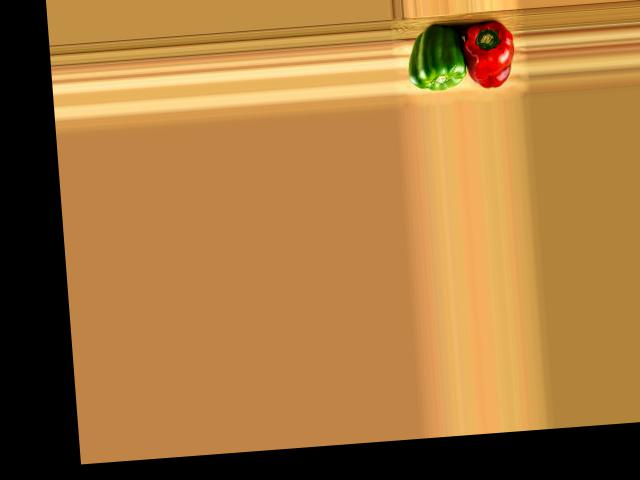bell_pepper: (459, 19, 518, 90)
